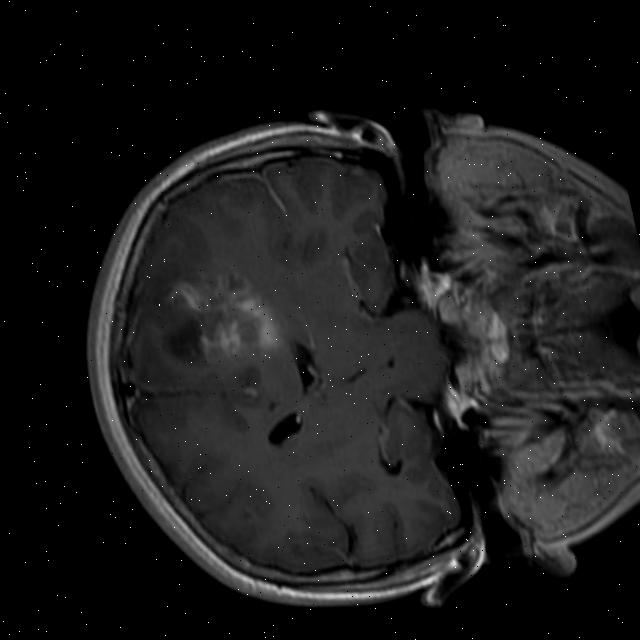Glioma: (143, 259, 284, 374)
